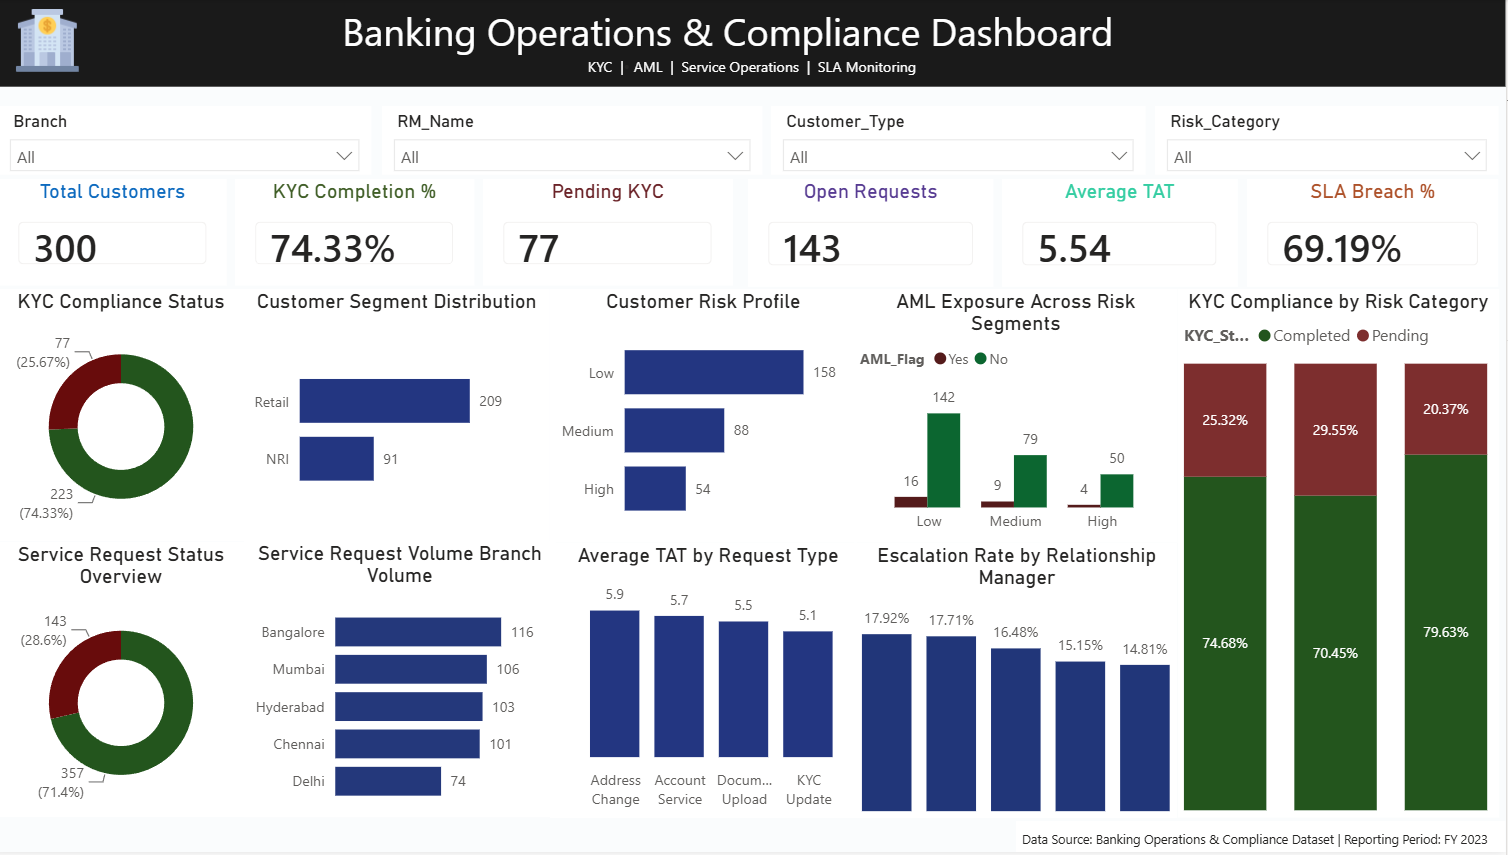

What the dashboard file says about the page in this screenshot:
{"tool":"powerbi","page":{"name":"Page 1","canvas":[1280,720],"ordinal":0},"visuals":[{"type":"cardVisual","title":"Total Customers","fields":{"Data":["Customer_Master.Total Customer"]},"box":[7.7,152,193.2,90.3],"z":0},{"type":"cardVisual","title":" KYC Completion %","fields":{"Data":["Customer_Master.%KYC Completed"]},"box":[207.7,152,201.7,90.3],"z":1000},{"type":"cardVisual","title":"Open Requests","fields":{"Data":["Customer_Master.Open Service Request"]},"box":[640.2,151.5,207.2,90.7],"z":2000},{"type":"cardVisual","title":"Pending KYC","fields":{"Data":["Customer_Master.Pending KYC Customer"]},"box":[416.9,152,210.9,90.3],"z":3000},{"type":"cardVisual","title":"Average TAT","fields":{"Data":["Customer_Master.Average TAT Days"]},"box":[854.6,151.5,199,90.7],"z":4000},{"type":"cardVisual","title":"SLA Breach %","fields":{"Data":["Customer_Master.SLA Breach %"]},"box":[1061.9,151.5,212.4,90.7],"z":5000},{"type":"donutChart","title":"KYC Compliance Status","fields":{"Y":["Customer_Master.Completed KYC Customers","Customer_Master.Pending KYC Customer"]},"box":[7.7,244.7,207.6,213.5],"z":6000},{"type":"donutChart","title":"Service Request Status Overview","fields":{"Y":["Customer_Master.Closed Service Request","Customer_Master.Open Service Request"]},"box":[7.7,458.2,207.6,232],"z":7000},{"type":"clusteredBarChart","title":"Customer Segment Distribution","fields":{"Y":["CountNonNull(KYC_Compliance.KYC_ID)"],"Category":["Customer_Master.Customer_Type"]},"box":[215,244.6,258,213],"z":8000},{"type":"clusteredBarChart","title":"Customer Risk Profile","fields":{"Category":["Customer_Master.Risk_Category"],"Y":["CountNonNull(Customer_Master.Customer_ID)"]},"box":[473,244.6,259,214],"z":9000},{"type":"clusteredColumnChart","title":"Average TAT by Request Type","fields":{"Y":["Service_Requests.Average TAT Days"],"Category":["Service_Requests.Request_Type"]},"box":[473,458.6,267,232],"z":10000},{"type":"clusteredColumnChart","title":"AML Exposure Across Risk Segments","fields":{"Category":["Customer_Master.Risk_Category"],"Y":["Count(KYC_Compliance.Customer_ID)"],"Series":["KYC_Compliance.AML_Flag"]},"box":[730,244.6,273,214],"z":11000},{"type":"hundredPercentStackedColumnChart","title":"KYC Compliance by Risk Category","fields":{"Category":["Customer_Master.Risk_Category"],"Y":["Count(KYC_Compliance.Customer_ID)"],"Series":["KYC_Compliance.KYC_Status"]},"box":[1003.4,244.7,270.9,445.5],"z":12000},{"type":"clusteredBarChart","title":"Service Request Volume Branch Volume","fields":{"Category":["Service_Requests.Branch"],"Y":["CountNonNull(Service_Requests.Request_ID)"]},"box":[215,457.6,263,233],"z":13000},{"type":"clusteredColumnChart","title":"Escalation Rate by Relationship Manager","fields":{"Category":["Service_Requests.RM_Name"],"Y":["Service_Requests.Escalation%"]},"box":[731.9,458.8,271.4,231.9],"z":14000},{"type":"slicer","fields":{"Values":["Customer_Master.Risk_Category"]},"box":[984,90.3,290.3,58.2],"z":15000},{"type":"textbox","box":[7.6,0,1272.4,74.3],"z":15500},{"type":"slicer","fields":{"Values":["Customer_Master.Customer_Type"]},"box":[659.9,90.3,316.4,58.2],"z":16000},{"type":"slicer","fields":{"Values":["Service_Requests.Branch"]},"box":[7.7,90.3,314.7,58.2],"z":18000},{"type":"slicer","fields":{"Values":["Service_Requests.RM_Name"]},"box":[331.7,90.3,320.6,58.2],"z":19000},{"type":"textbox","box":[866.4,693.3,407.6,26.9],"z":20000},{"type":"image","box":[6.8,8.4,84.4,53.2],"z":24000}]}

Visuals, with their boxes in screenshot pixels (x1, y1, x2, y2), scaled from the page's 1280x720 canvas onto the 1508x855 screenshot:
"Total Customers" cardVisual: (left=9, top=180, right=237, bottom=288)
" KYC Completion %" cardVisual: (left=245, top=180, right=482, bottom=288)
"Open Requests" cardVisual: (left=754, top=180, right=998, bottom=288)
"Pending KYC" cardVisual: (left=491, top=180, right=740, bottom=288)
"Average TAT" cardVisual: (left=1007, top=180, right=1241, bottom=288)
"SLA Breach %" cardVisual: (left=1251, top=180, right=1501, bottom=288)
"KYC Compliance Status" donutChart: (left=9, top=291, right=254, bottom=544)
"Service Request Status Overview" donutChart: (left=9, top=544, right=254, bottom=820)
"Customer Segment Distribution" clusteredBarChart: (left=253, top=290, right=557, bottom=543)
"Customer Risk Profile" clusteredBarChart: (left=557, top=290, right=862, bottom=545)
"Average TAT by Request Type" clusteredColumnChart: (left=557, top=545, right=872, bottom=820)
"AML Exposure Across Risk Segments" clusteredColumnChart: (left=860, top=290, right=1182, bottom=545)
"KYC Compliance by Risk Category" hundredPercentStackedColumnChart: (left=1182, top=291, right=1501, bottom=820)
"Service Request Volume Branch Volume" clusteredBarChart: (left=253, top=543, right=563, bottom=820)
"Escalation Rate by Relationship Manager" clusteredColumnChart: (left=862, top=545, right=1182, bottom=820)
slicer - Customer_Master.Risk_Category: (left=1159, top=107, right=1501, bottom=176)
textbox: (left=9, top=0, right=1507, bottom=88)
slicer - Customer_Master.Customer_Type: (left=777, top=107, right=1150, bottom=176)
slicer - Service_Requests.Branch: (left=9, top=107, right=380, bottom=176)
slicer - Service_Requests.RM_Name: (left=391, top=107, right=768, bottom=176)
textbox: (left=1021, top=823, right=1501, bottom=854)
image: (left=8, top=10, right=107, bottom=73)
